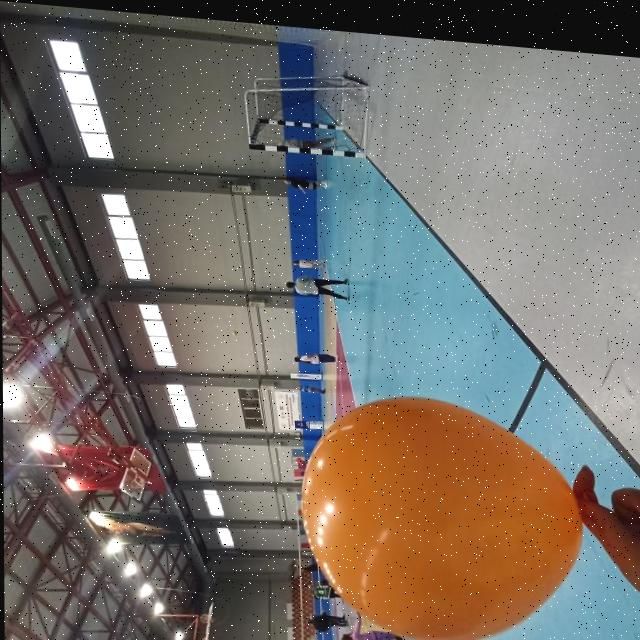balloon: (299, 377, 586, 640)
